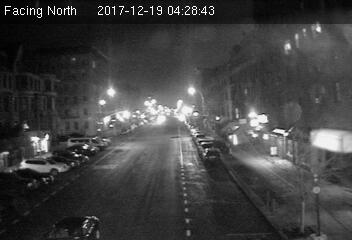car: (202, 146, 220, 163)
